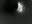person: (17, 2, 25, 17)
